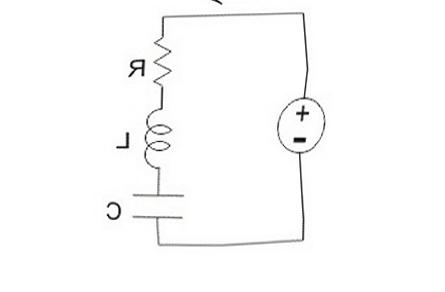Battery: (261, 84, 335, 161)
